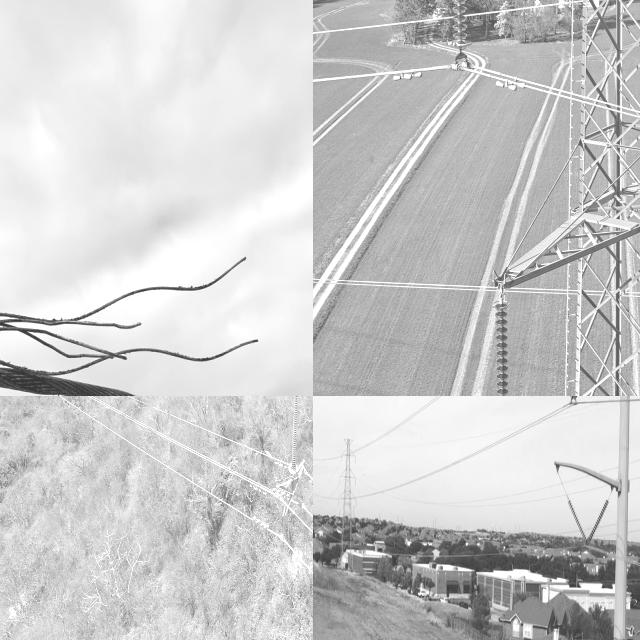杆塔: (436, 0, 640, 396), (333, 430, 368, 573)
正常电缆: (30, 396, 313, 590), (313, 55, 640, 127), (81, 396, 272, 497), (313, 0, 640, 41), (313, 270, 640, 307), (117, 396, 257, 459)
正常绝缘子: (488, 287, 519, 396), (576, 488, 618, 558), (440, 0, 475, 71), (562, 484, 596, 555), (288, 396, 304, 480), (560, 396, 583, 420)
电缆破损: (0, 237, 313, 396)
